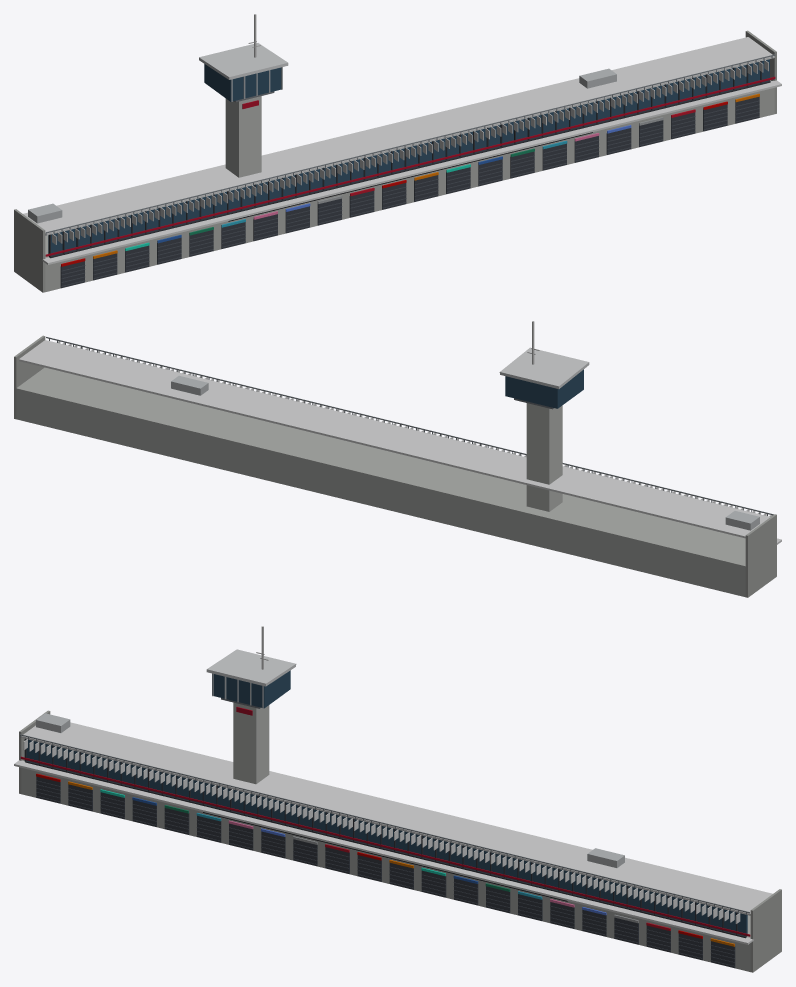
Rendered from redbullring-predio-boxes.glb.
3 renders of one model, top to bottom at view 1: azimuth 30°, elevation 25°; view 2: azimuth 150°, elevation 25°; view 3: azimuth 330°, elevation 25°, orthographic.
Parts seen in each view (by area): view 1: redbullring-predio-boxes; view 2: redbullring-predio-boxes; view 3: redbullring-predio-boxes.
Boxes of the visible parts, x1,y1,x2,y2 form: redbullring-predio-boxes: [14, 14, 781, 292]; redbullring-predio-boxes: [14, 321, 781, 597]; redbullring-predio-boxes: [14, 626, 781, 972].
Size of the model in its own units: 134 by 36.88 by 11.4.
Materials: 3 (1 with a texture image).
